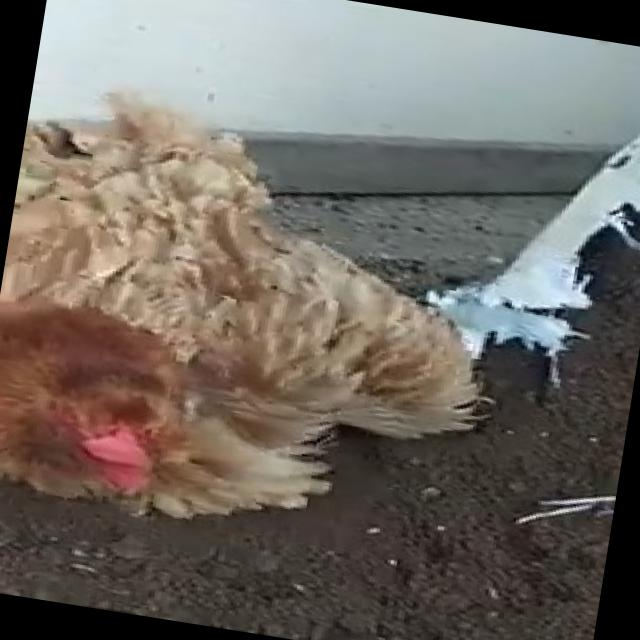stand bath: (0, 99, 566, 558)
